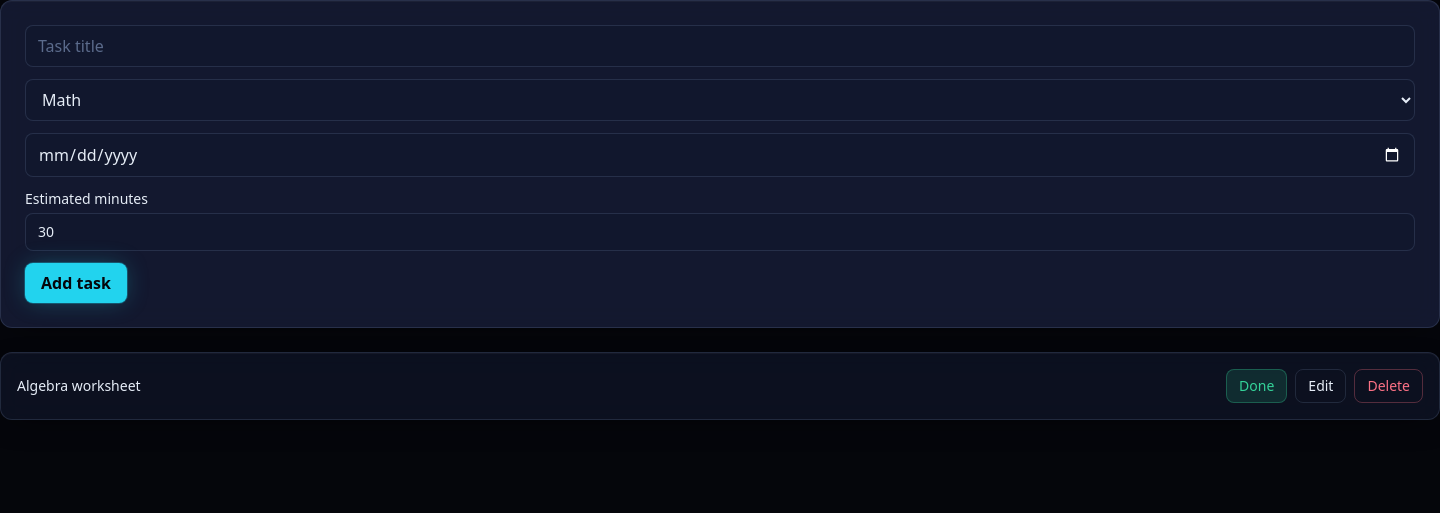
Test: TaskList › adds a new task to the list on successful submit
In the field with placeholder "Task title": (720, 46) [25, 25, 1415, 67], type "Read chapter 4"
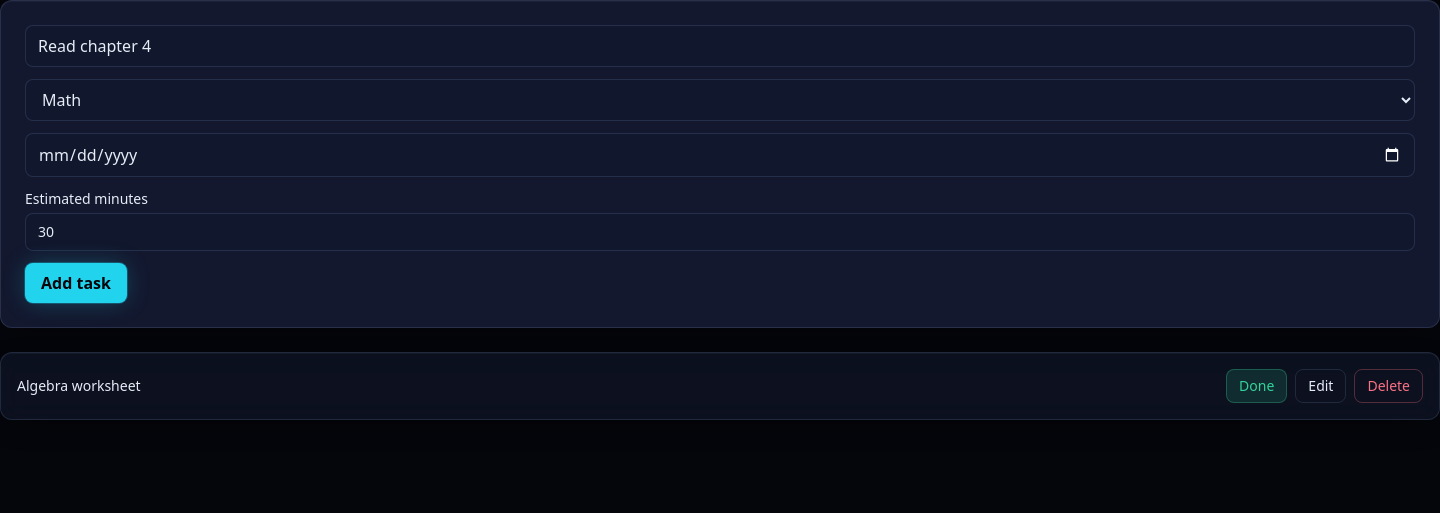
Replace the text in the number field labelled "Estimated minutes" with "20": (720, 232) [25, 213, 1415, 251]
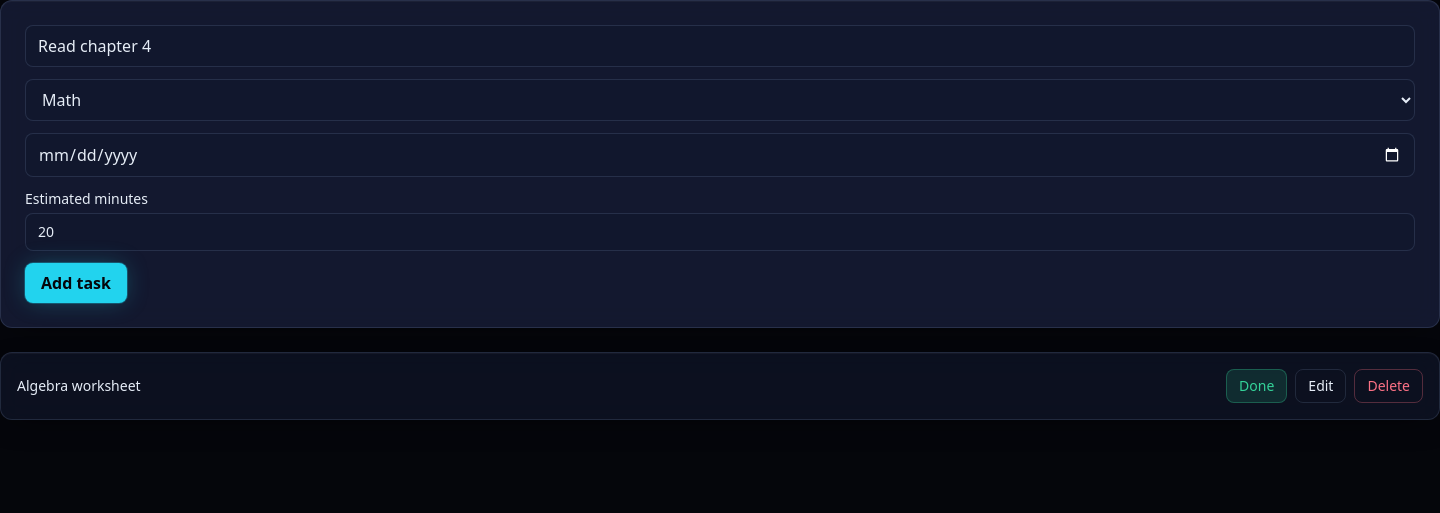
Click the button "Add task": (76, 283) [25, 263, 127, 303]
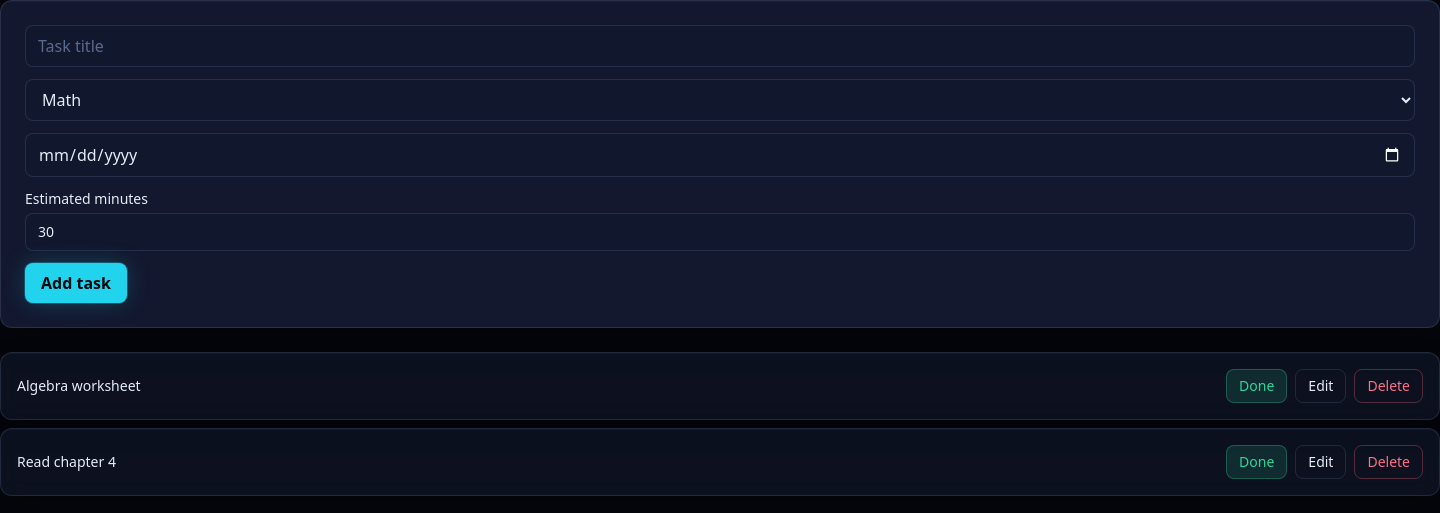
Check: the text "Read chapter 4" is shown, box [17, 452, 116, 472]
